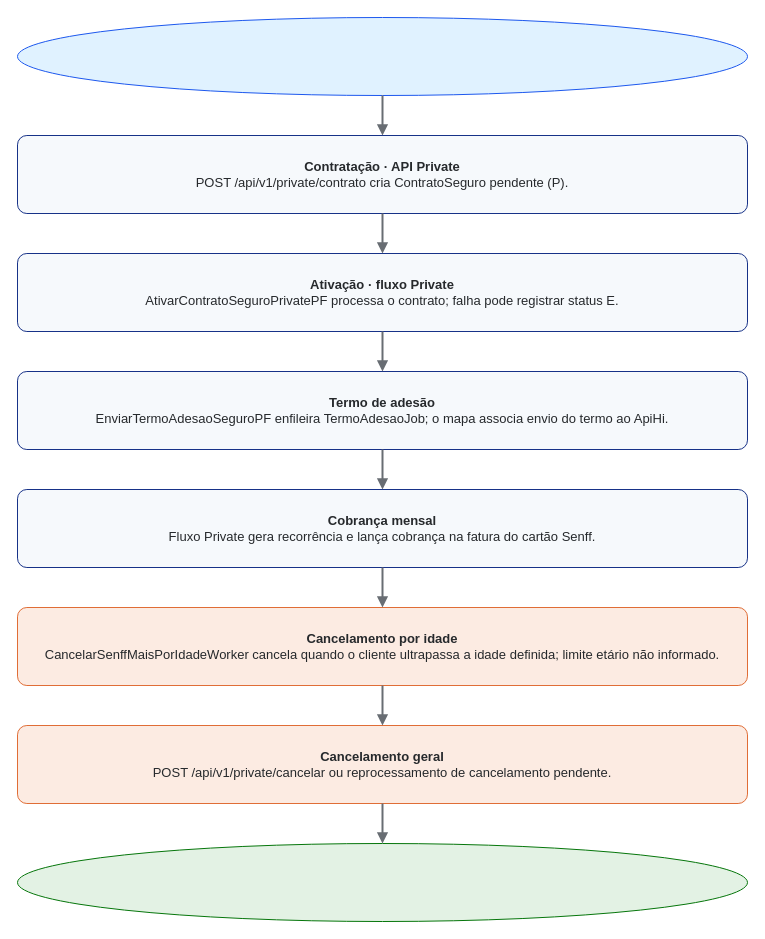
The diagram is 765 pixels wide and 939 high, and some of its shapes have lost their labels. Each missing label, with the centre of its shape:
Fim Contrato C ao cancelar; demais critérios de encerramento não detalhados.: [382,882]
Início Cliente adere pelo canal Senff.: [382,56]
